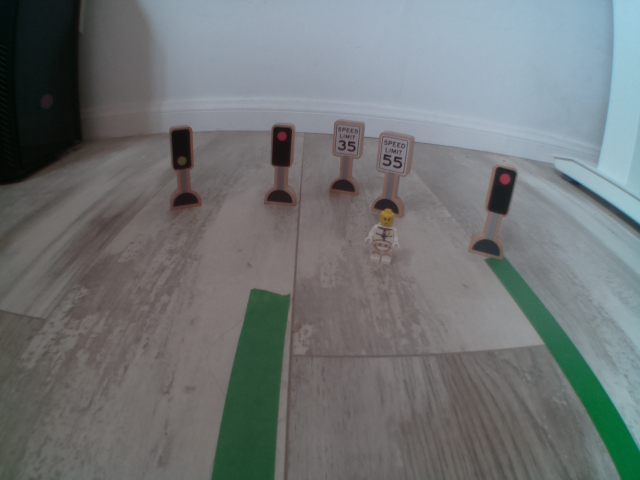Green Traffic Light: (169, 127, 195, 171)
Red Traffic Light: (488, 163, 518, 215), (271, 124, 293, 171)
Speed Limit 35: (332, 120, 362, 159)
Speed Limit 55: (378, 132, 411, 173)
person: (361, 204, 407, 265)
